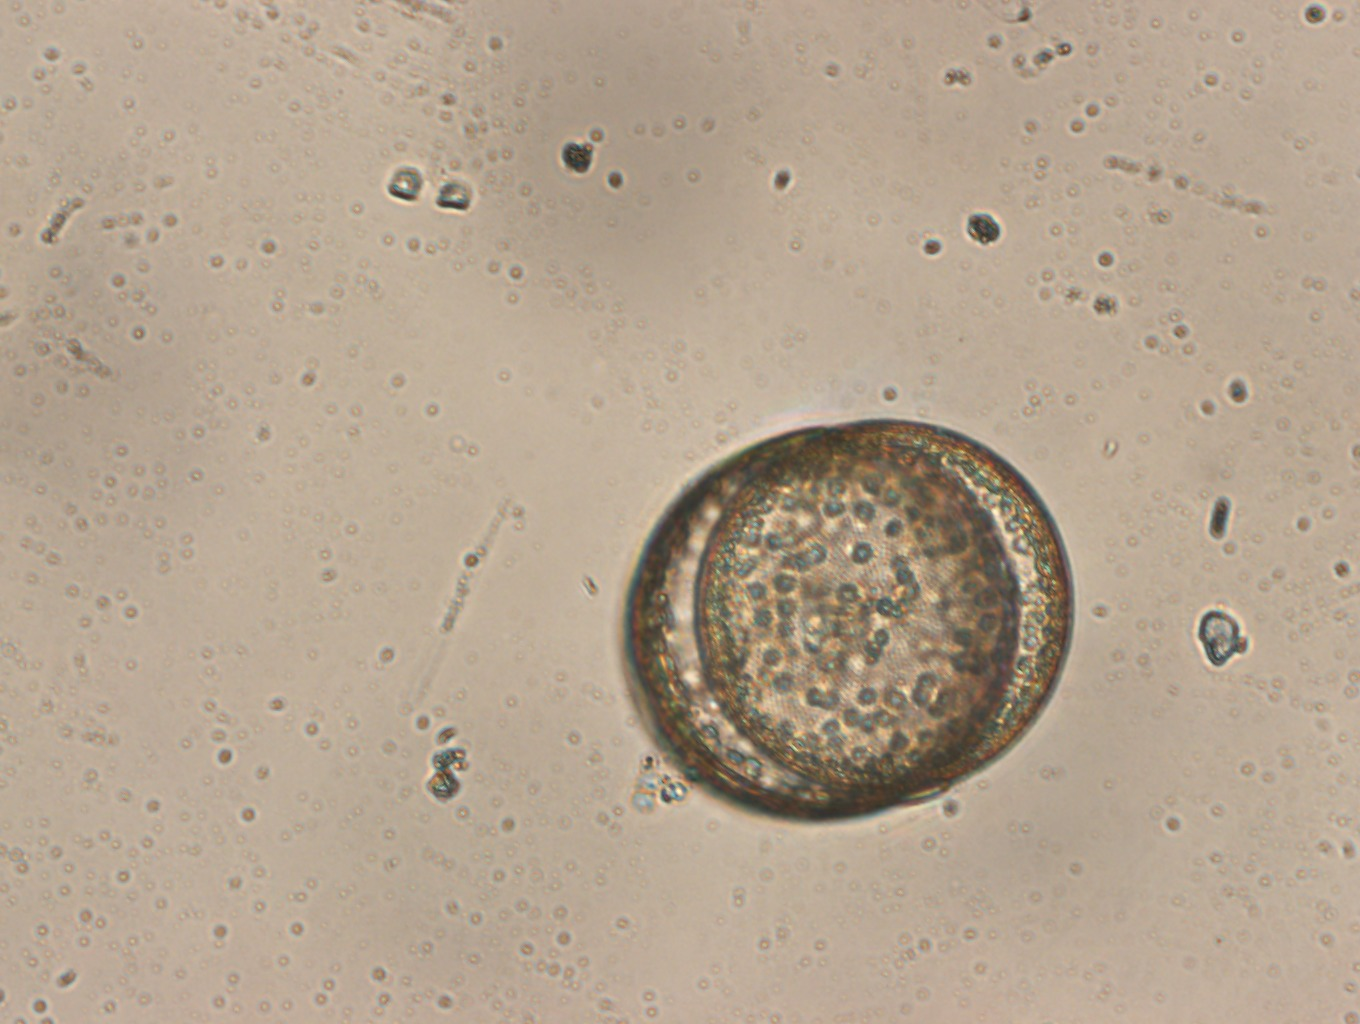coscinodiscus: (619, 418, 1076, 825)
